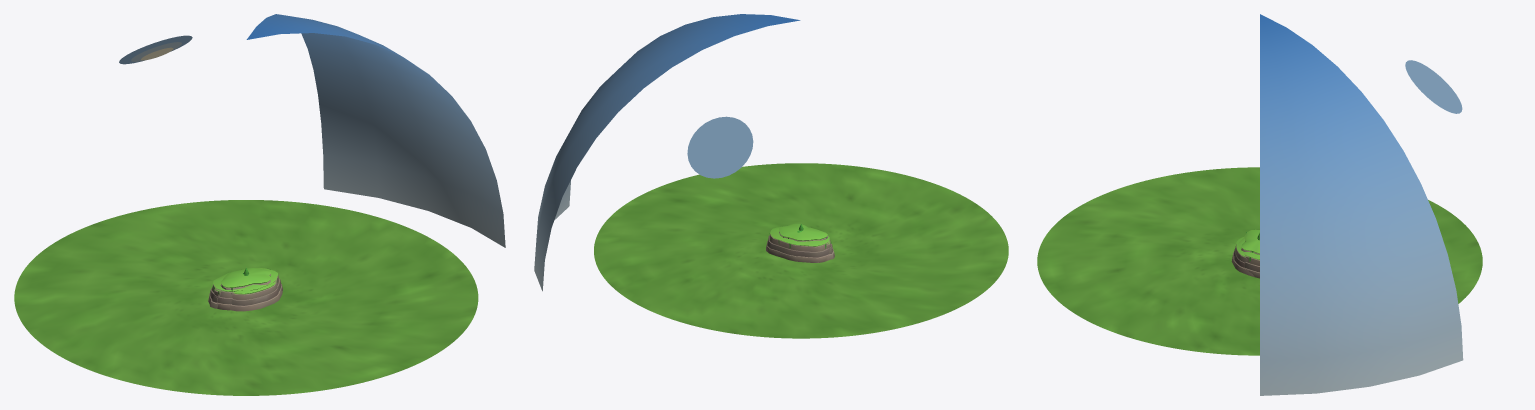
The model's file is Meadow.fbx.
The picture shows the model from 3 angles, left to right: view 1: azimuth 30°, elevation 25°; view 2: azimuth 150°, elevation 25°; view 3: azimuth 270°, elevation 25°; orthographic projection. The views are drawn at different scales.
Parts seen in each view (by area): view 1: Meadow_SkyWedge, Meadow_GroundS5_4, Meadow_GroundS5_0, Meadow_GroundS5_5, Meadow_GroundS5_1, Meadow_GroundS5_2, Meadow_GroundS5_6, Meadow_GroundS5_7, Meadow_GroundS5_3, Meadow_GroundS4_1, Meadow_GroundS4_0, Meadow_GroundS4_4 (+22 smaller); view 2: Meadow_SkyWedge, Meadow_GroundS5_6, Meadow_GroundS5_2, Meadow_GroundS5_3, Meadow_GroundS5_1, Meadow_GroundS5_5, Meadow_GroundS5_0, Meadow_GroundS5_4, Meadow_GroundS5_7, Meadow_Sun, Meadow_GroundS4_2, Meadow_GroundS4_6 (+16 smaller); view 3: Meadow_SkyWedge, Meadow_GroundS5_4, Meadow_GroundS5_5, Meadow_GroundS5_6, Meadow_GroundS5_7, Meadow_GroundS4_5, Meadow_GroundS4_6, Meadow_GroundS4_4, Meadow_GroundS4_7, Meadow_GroundS5_2, Meadow_Sun, Meadow_GroundS5_1 (+4 smaller).
Part boxes in pixels (x1,y1,x2,y2): Meadow_SkyWedge: (246, 14, 505, 247); Meadow_GroundS5_4: (46, 329, 207, 392); Meadow_GroundS5_0: (285, 203, 446, 266); Meadow_GroundS5_5: (186, 353, 361, 395); Meadow_GroundS5_1: (131, 200, 305, 242); Meadow_GroundS5_2: (22, 213, 170, 281); Meadow_GroundS5_6: (321, 314, 469, 382); Meadow_GroundS5_7: (376, 249, 478, 323); Meadow_GroundS5_3: (14, 272, 116, 346); Meadow_GroundS4_1: (172, 234, 284, 264); Meadow_GroundS4_0: (270, 237, 375, 278); Meadow_GroundS4_4: (117, 317, 222, 358); Meadow_SkyWedge: (534, 14, 800, 291); Meadow_GroundS5_6: (748, 163, 904, 201); Meadow_GroundS5_2: (698, 300, 854, 338); Meadow_GroundS5_3: (836, 279, 980, 335); Meadow_GroundS5_1: (601, 265, 733, 326); Meadow_GroundS5_5: (868, 175, 1001, 236); Meadow_GroundS5_0: (594, 207, 684, 273); Meadow_GroundS5_4: (917, 228, 1008, 294); Meadow_GroundS5_7: (622, 166, 766, 222); Meadow_Sun: (687, 116, 753, 178); Meadow_GroundS4_2: (735, 280, 835, 307); Meadow_GroundS4_6: (767, 194, 867, 221); Meadow_SkyWedge: (1260, 14, 1463, 395); Meadow_GroundS5_4: (1103, 167, 1259, 218); Meadow_GroundS5_5: (1037, 195, 1157, 261); Meadow_GroundS5_6: (1037, 261, 1157, 327); Meadow_GroundS5_7: (1103, 304, 1259, 355); Meadow_GroundS4_5: (1116, 218, 1198, 261); Meadow_GroundS4_6: (1116, 261, 1198, 304); Meadow_GroundS4_4: (1158, 200, 1259, 235); Meadow_GroundS4_7: (1159, 287, 1259, 322); Meadow_GroundS5_2: (1428, 200, 1482, 261); Meadow_Sun: (1405, 60, 1462, 113); Meadow_GroundS5_1: (1449, 261, 1482, 303).
Bounding box in the file's own units: 71 × 47.26 × 67.28.
